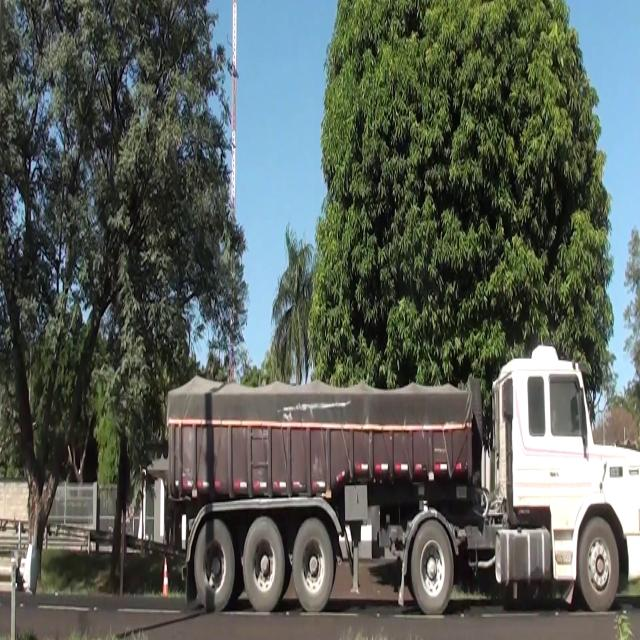-axle: (577, 515, 621, 613), (243, 515, 286, 614), (409, 520, 454, 612), (292, 517, 335, 611), (194, 518, 236, 611)
